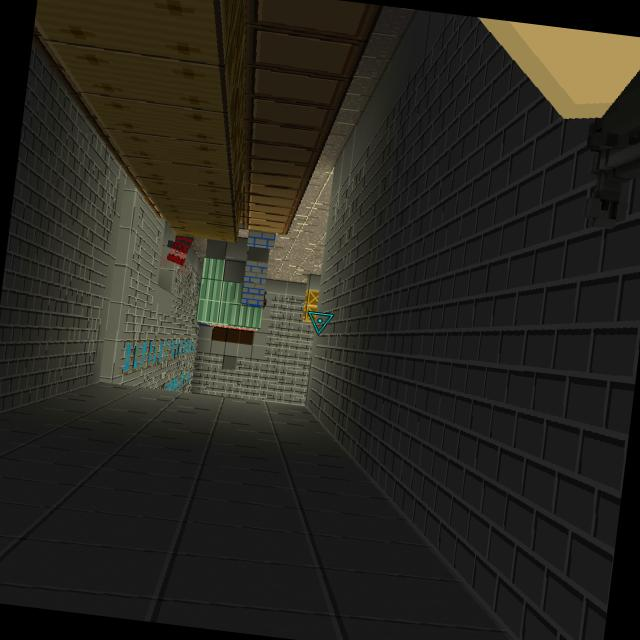enemy: (165, 234, 192, 269)
